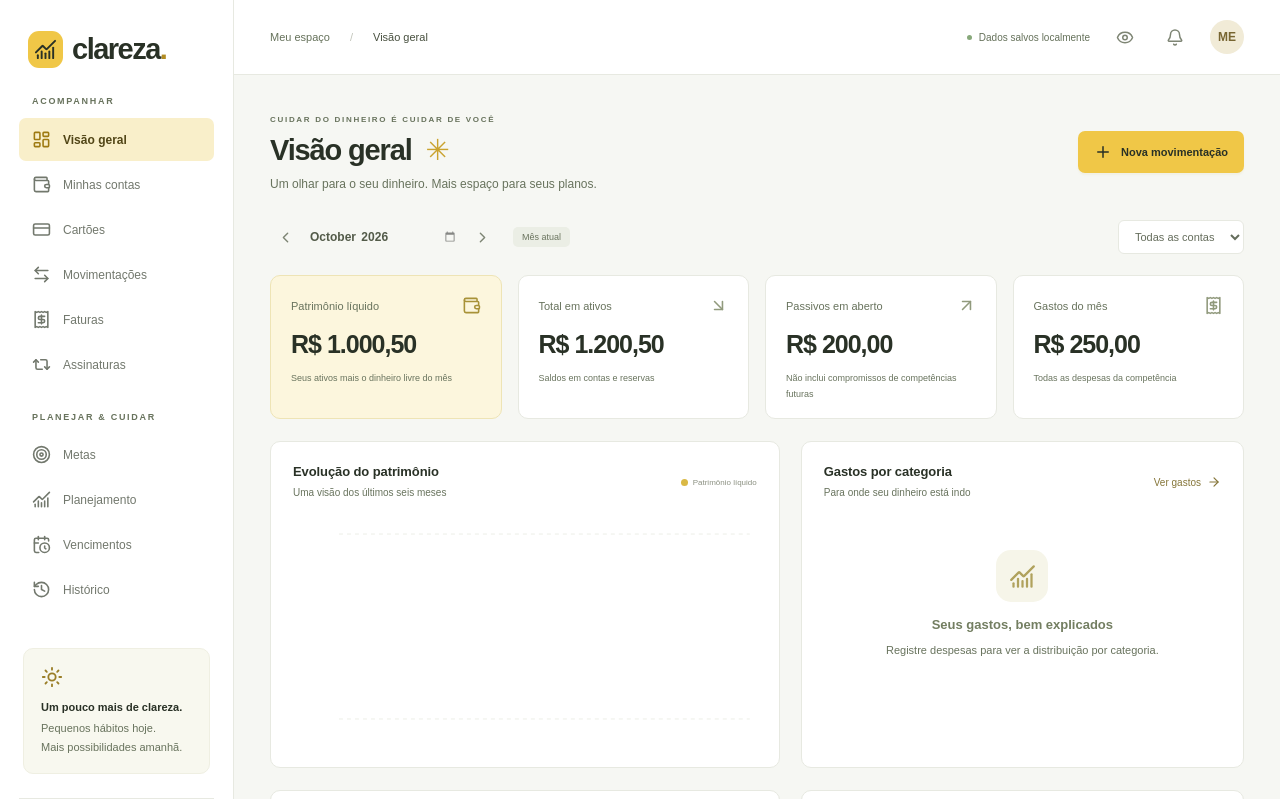
Test case: Fluxos principais › navega até contas e abre o formulário
Check: the text "R$ 1.000,50" is shown, box [291,330,416,358]
Click the link "Minhas contas". click: (86, 184)
box: [32,175,140,194]
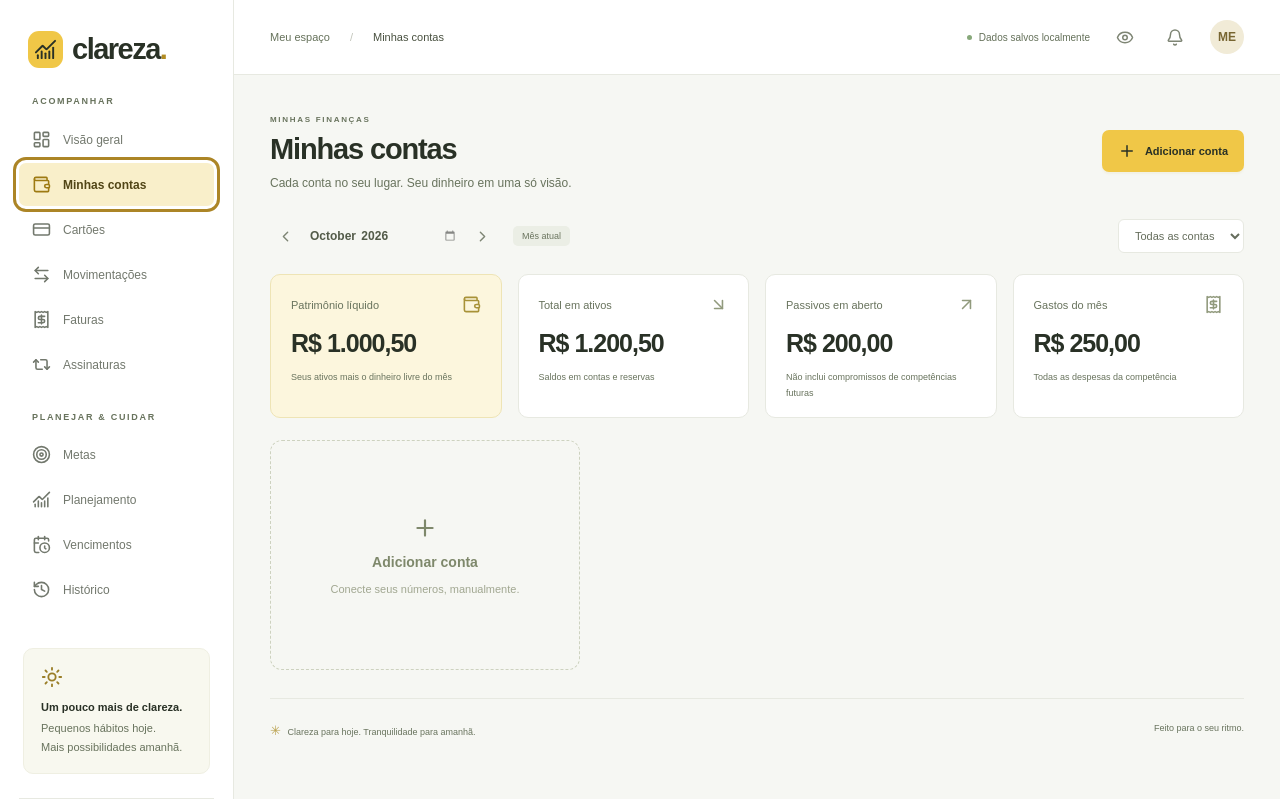
Click the button "Adicionar conta". click: (1173, 151)
box: [1102,130,1244,172]
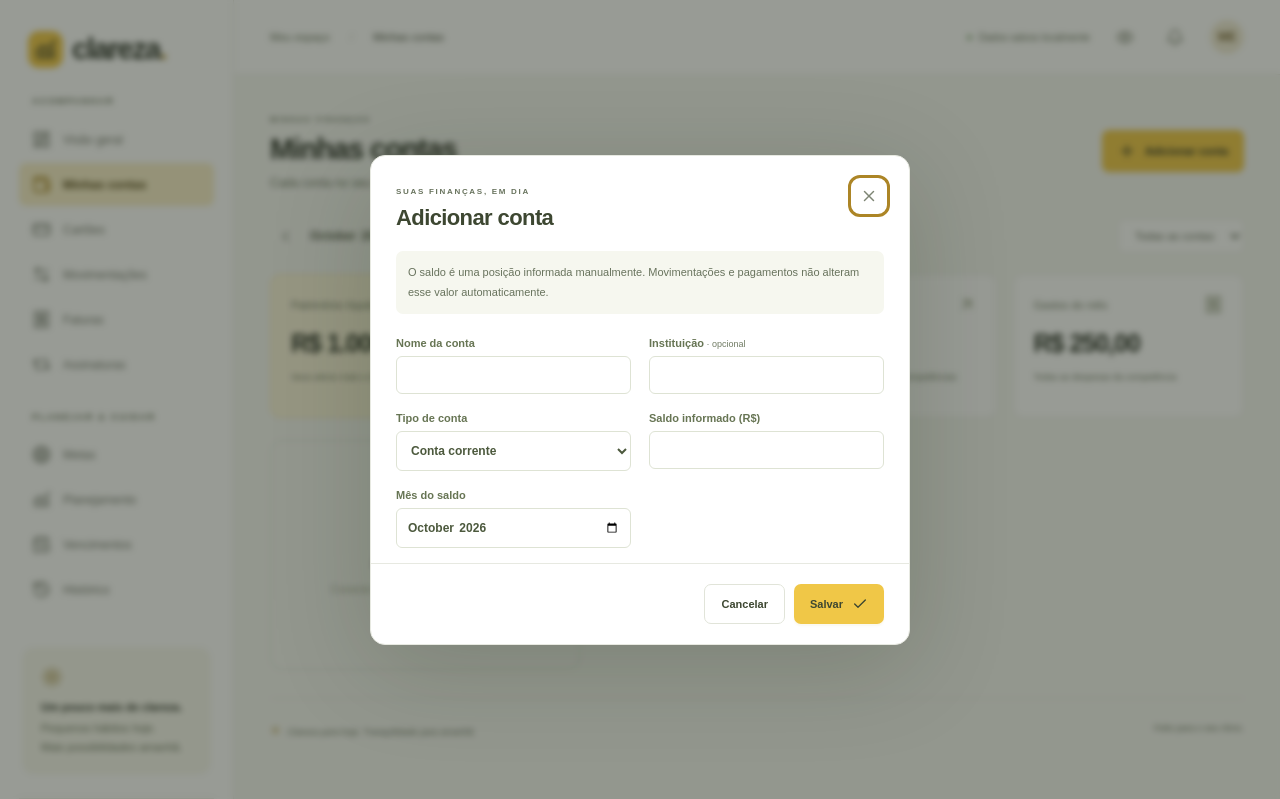
Check: the field labelled "Nome da conta" is shown, box [396,356,631,394]
